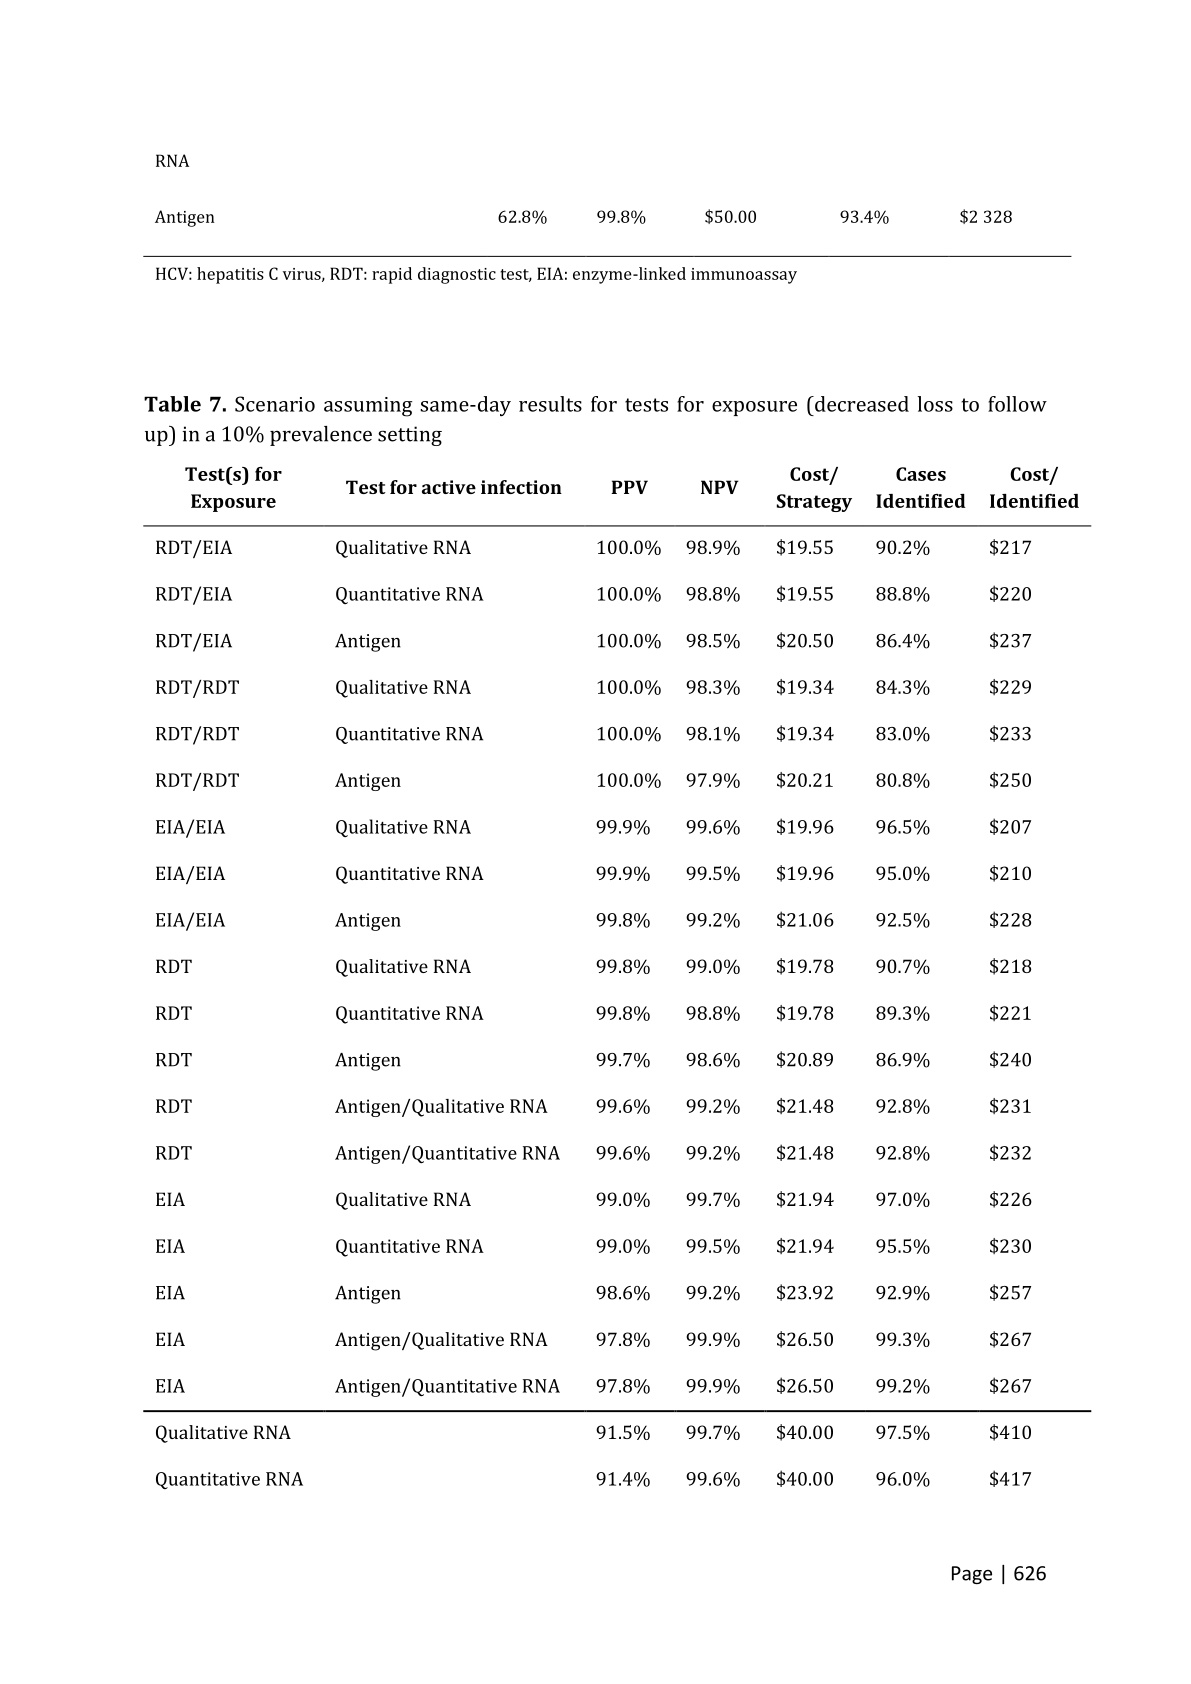partial_lined_merged_cells: (140, 454, 1094, 1502)
